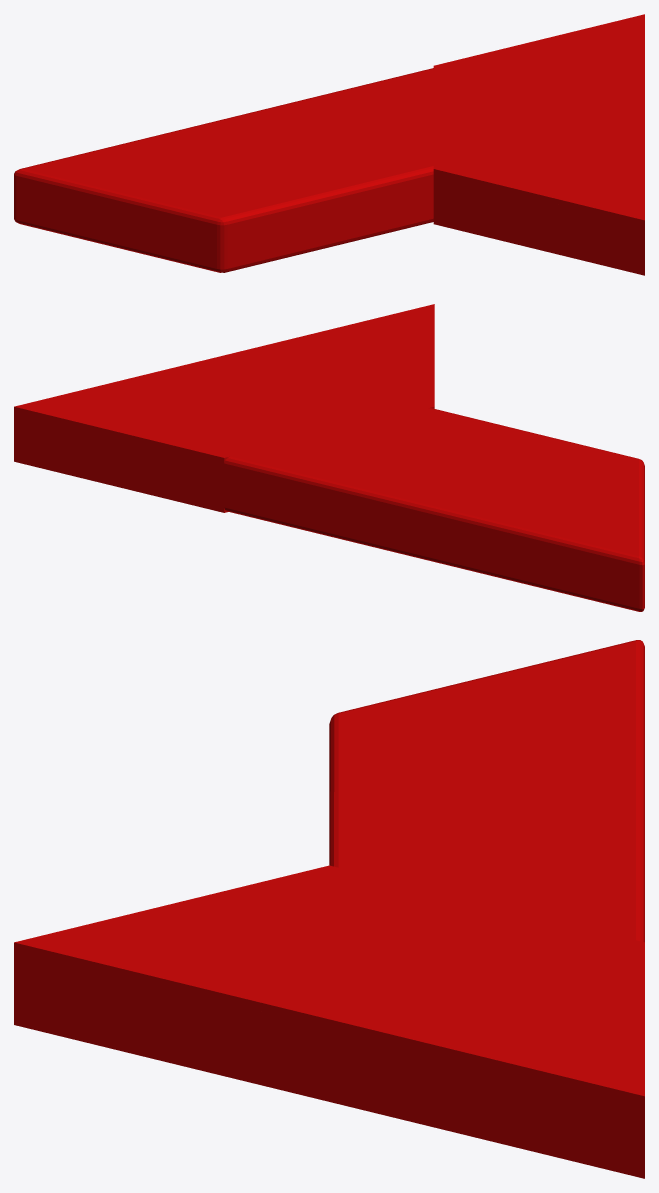
The model's file is pieceP1.glb.
The picture shows the model from 3 angles, top to bottom: view 1: azimuth 30°, elevation 25°; view 2: azimuth 150°, elevation 25°; view 3: azimuth 270°, elevation 25°; orthographic projection. The views are drawn at different scales.
Parts seen in each view (by area): view 1: CubeP1-1, CubeP1-2-noimp; view 2: CubeP1-1, CubeP1-2-noimp; view 3: CubeP1-1, CubeP1-2-noimp.
Part boxes in pixels (x1,y1,x2,y2): CubeP1-1: [14, 19, 639, 272]; CubeP1-2-noimp: [433, 14, 644, 275]; CubeP1-1: [27, 309, 644, 611]; CubeP1-2-noimp: [14, 304, 434, 512]; CubeP1-1: [22, 640, 644, 1168]; CubeP1-2-noimp: [14, 865, 644, 1178].
Size of what is drawn, in the model's own units: 2.99 by 0.25 by 1.73.
